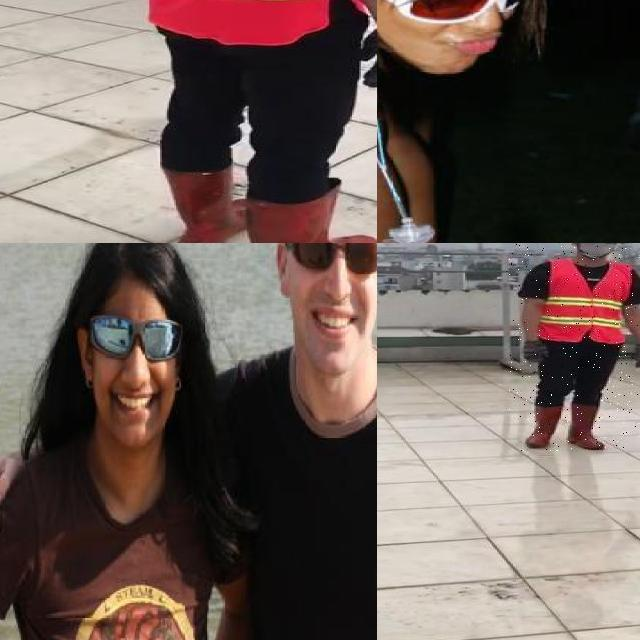boots: (248, 183, 377, 243), (158, 164, 247, 243), (566, 402, 609, 451), (529, 403, 561, 449)
face_nomask: (84, 309, 188, 437), (283, 243, 377, 357), (397, 0, 524, 62)
glasses: (86, 314, 184, 366), (377, 0, 546, 24), (285, 243, 377, 281)
hand_glove: (355, 32, 377, 89)
hand_noglove: (0, 453, 21, 550)
head_nohelmet: (71, 243, 198, 299)
person: (0, 243, 240, 640), (201, 243, 377, 640), (108, 0, 377, 243), (377, 0, 552, 243), (509, 243, 640, 451)
vest: (543, 259, 629, 346)
